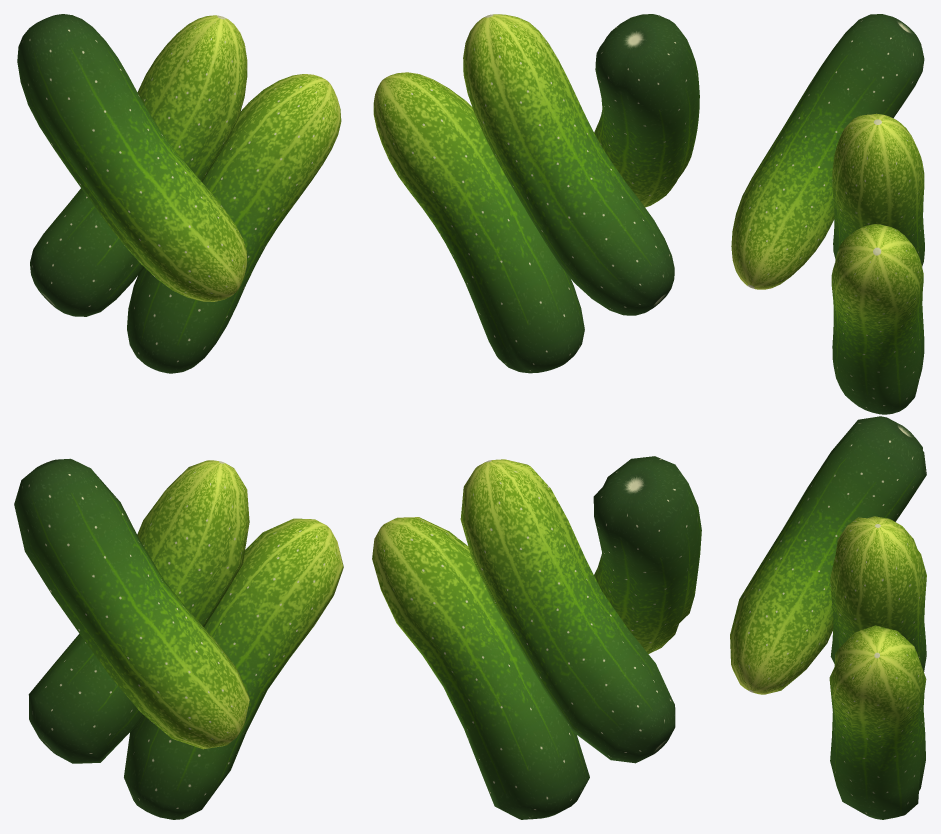
The model's file is Cucumber.obj.
3 renders of one model, left to right at view 1: azimuth 30°, elevation 25°; view 2: azimuth 150°, elevation 25°; view 3: azimuth 270°, elevation 25°, orthographic. The views are drawn at different scales.
Visible parts, largest first — view 1: Cucumber_04, Cucumber_02, Cucumber_05, Cucumber_03, Cucumber_06, Cucumber_01; view 2: Cucumber_06, Cucumber_01, Cucumber_05, Cucumber_03, Cucumber_04, Cucumber_02; view 3: Cucumber_04, Cucumber_02, Cucumber_05, Cucumber_03, Cucumber_06, Cucumber_01.
Part boxes in pixels (x1,y1,x2,y2): Cucumber_04: (14,458,249,749); Cucumber_02: (17,14,247,301); Cucumber_05: (124,518,343,819); Cucumber_03: (127,74,341,373); Cucumber_06: (28,460,249,763); Cucumber_01: (30,15,247,316); Cucumber_06: (460,459,675,763); Cucumber_01: (463,14,674,315); Cucumber_05: (372,517,589,819); Cucumber_03: (373,72,584,373); Cucumber_04: (593,456,701,653); Cucumber_02: (594,14,699,207); Cucumber_04: (730,416,926,694); Cucumber_02: (731,14,924,289); Cucumber_05: (829,625,926,819); Cucumber_03: (831,224,924,414); Cucumber_06: (830,516,926,671); Cucumber_01: (832,113,924,266).
Size of the model in its own units: 99.27 by 253 by 60.38.
